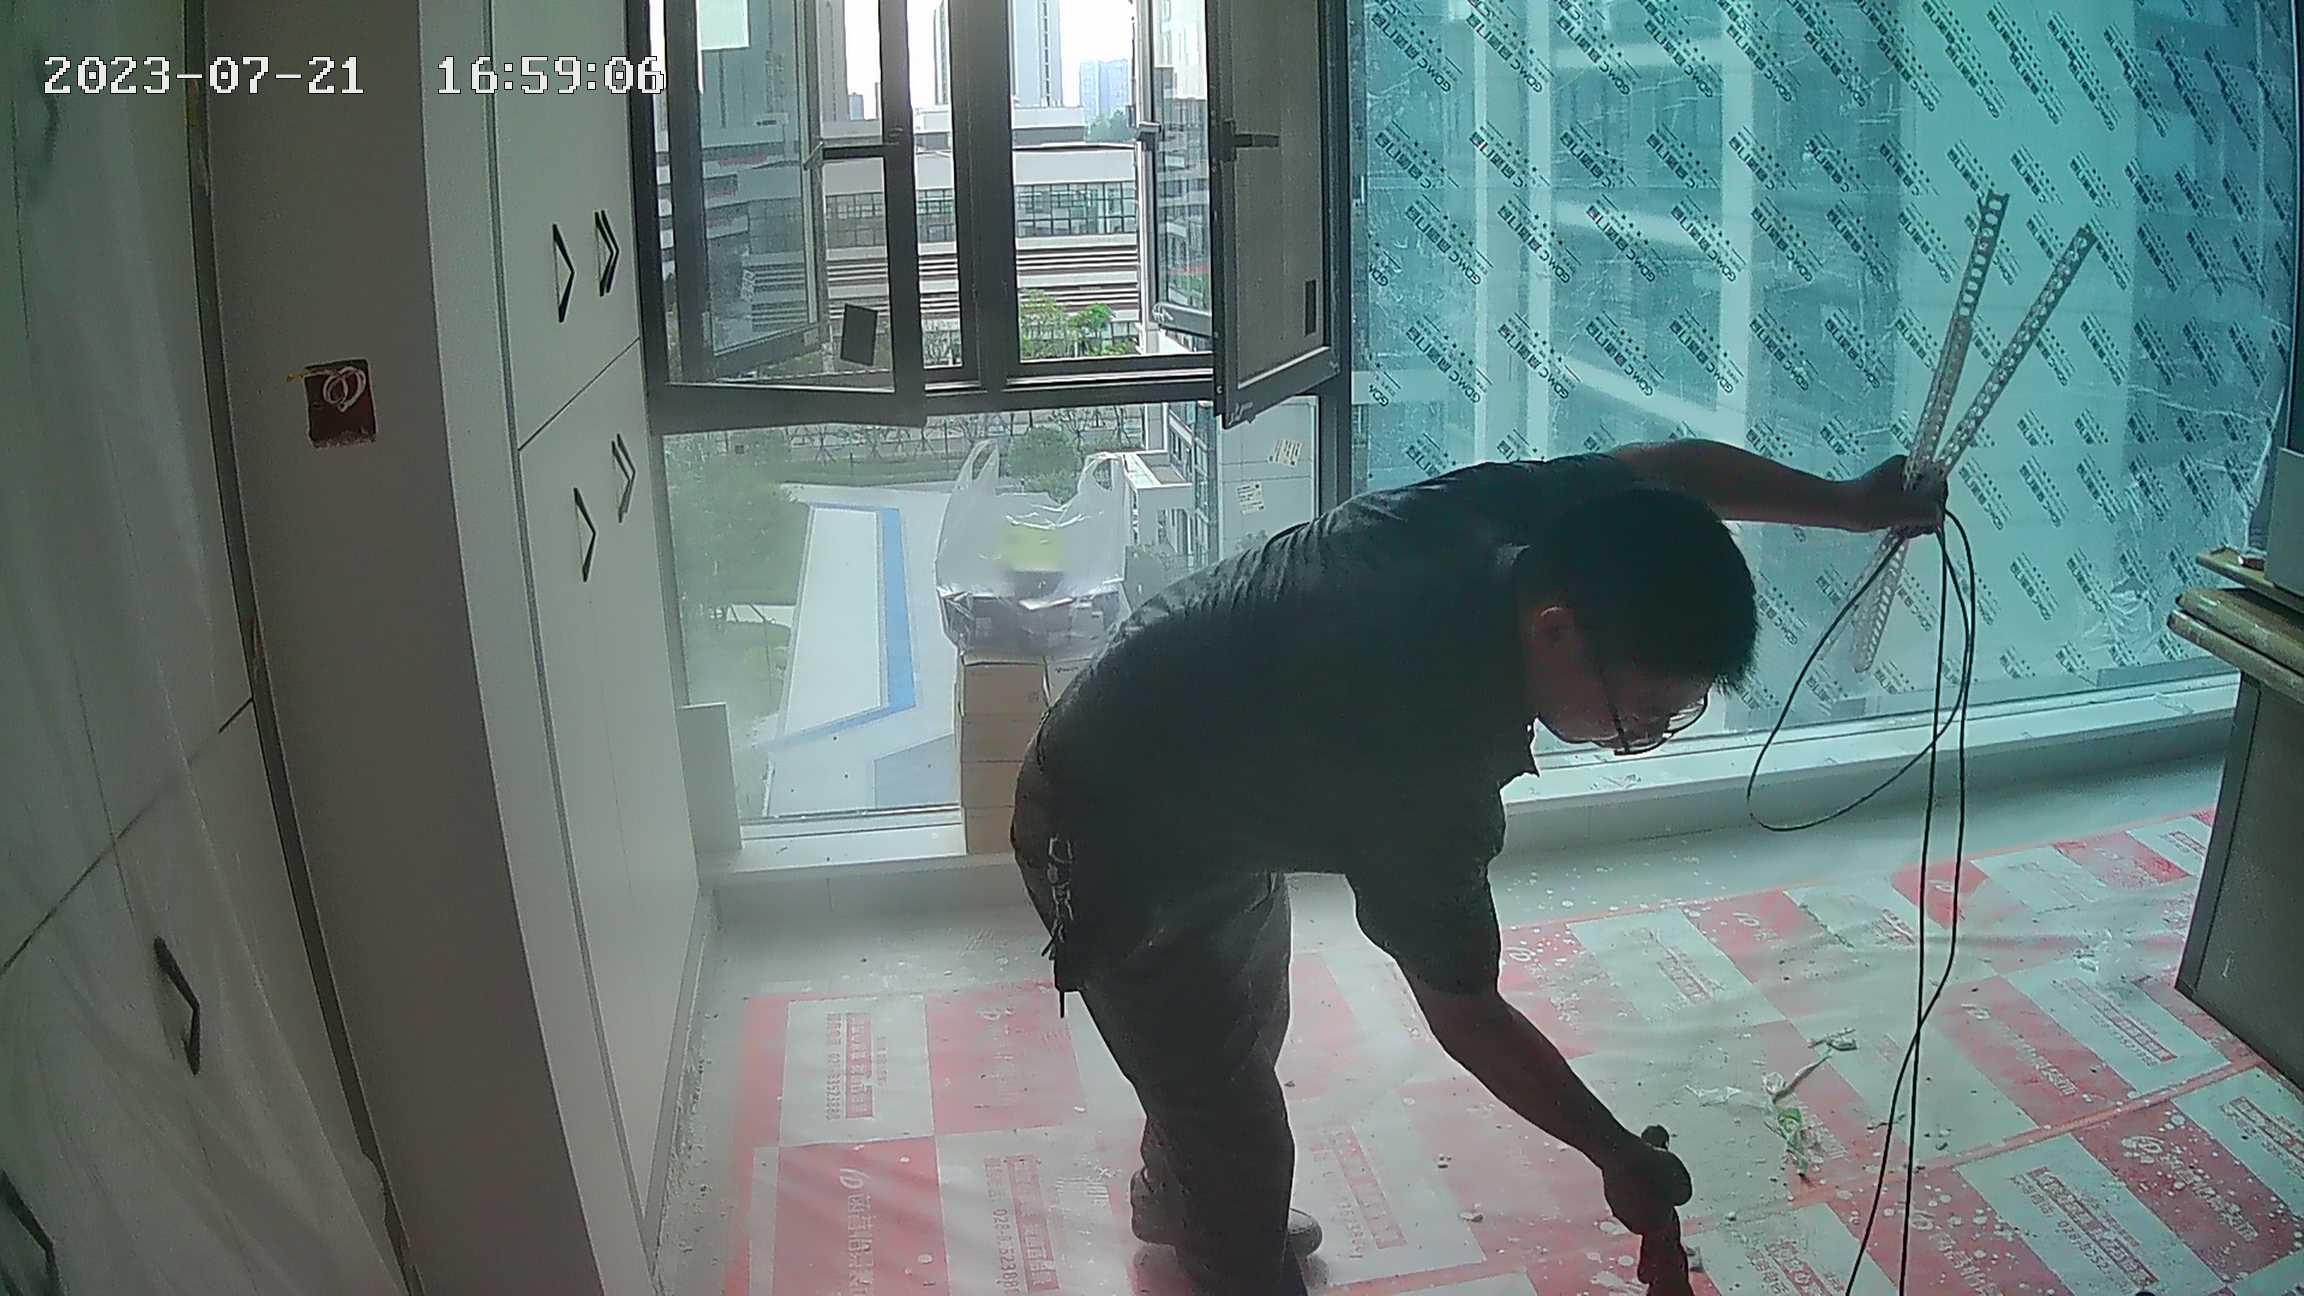people: (1011, 434, 1964, 1296)
window: (629, 1, 2304, 786)
